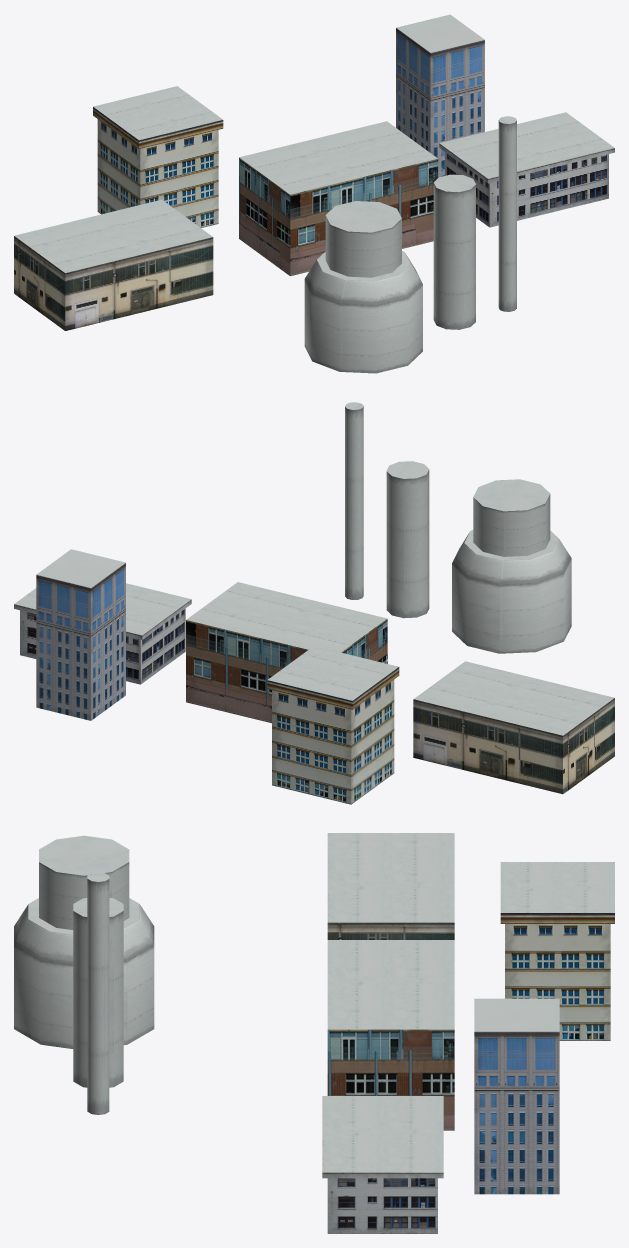
Rendered from Buildings.FBX.
The picture shows the model from 3 angles, top to bottom: view 1: azimuth 30°, elevation 25°; view 2: azimuth 150°, elevation 25°; view 3: azimuth 270°, elevation 25°; orthographic projection. The views are drawn at different scales.
Parts seen in each view (by area): view 1: Box003, Box004, Box005, Cylinder001, Box001, Box002, Cylinder003, Cylinder005, Cylinder004; view 2: Box004, Box005, Box003, Box002, Cylinder001, Cylinder003, Box001, Cylinder005, Cylinder004; view 3: Box003, Box005, Box002, Box001, Box004, Cylinder001, Cylinder005, Cylinder003, Cylinder004.
Boxes of the visible parts, x1=… form: Box003: x1=239, y1=121, x2=438, y2=276; Box004: x1=14, y1=199, x2=213, y2=330; Box005: x1=93, y1=86, x2=223, y2=227; Cylinder001: x1=304, y1=251, x2=422, y2=373; Box001: x1=439, y1=112, x2=614, y2=227; Box002: x1=396, y1=14, x2=484, y2=177; Cylinder003: x1=433, y1=174, x2=475, y2=329; Cylinder005: x1=325, y1=201, x2=401, y2=277; Cylinder004: x1=498, y1=116, x2=516, y2=311; Box004: x1=413, y1=661, x2=614, y2=794; Box005: x1=267, y1=646, x2=399, y2=804; Box003: x1=186, y1=582, x2=387, y2=723; Box002: x1=36, y1=549, x2=125, y2=720; Cylinder001: x1=452, y1=530, x2=571, y2=653; Cylinder003: x1=386, y1=461, x2=429, y2=618; Box001: x1=14, y1=583, x2=191, y2=684; Cylinder005: x1=473, y1=479, x2=550, y2=556; Cylinder004: x1=345, y1=402, x2=363, y2=599; Box003: x1=327, y1=940, x2=454, y2=1130; Box005: x1=500, y1=862, x2=614, y2=1040; Box002: x1=474, y1=998, x2=559, y2=1194; Box001: x1=322, y1=1096, x2=443, y2=1233; Box004: x1=327, y1=833, x2=454, y2=939; Cylinder001: x1=14, y1=898, x2=154, y2=1048; Cylinder005: x1=39, y1=835, x2=129, y2=929; Cylinder003: x1=73, y1=898, x2=123, y2=1087; Cylinder004: x1=87, y1=872, x2=109, y2=1114.
Bounding box in the file's own units: 2620 × 884 × 2009.
